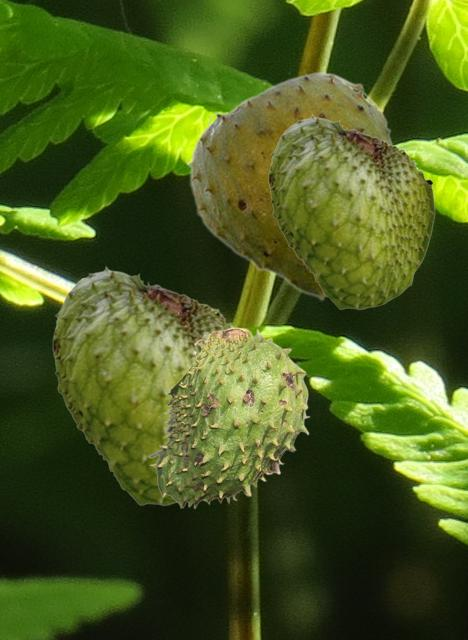guyabano: (185, 71, 395, 302), (52, 265, 234, 505), (268, 113, 434, 309), (148, 327, 309, 508)
